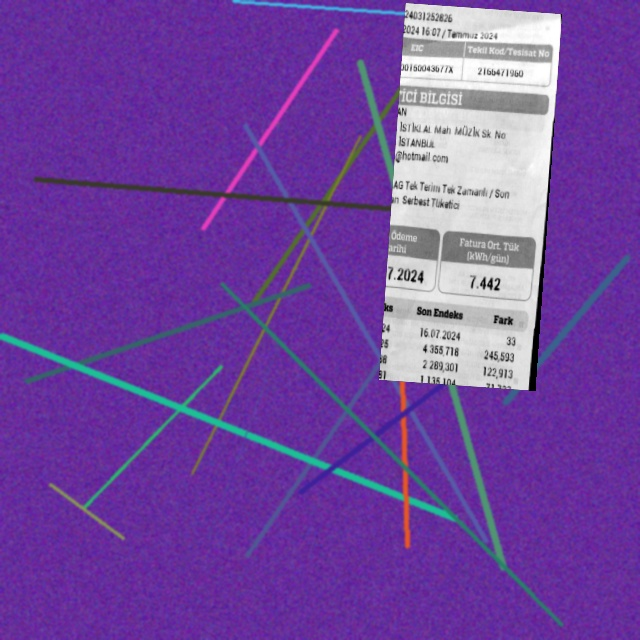electricity-bill: (378, 2, 562, 390)
